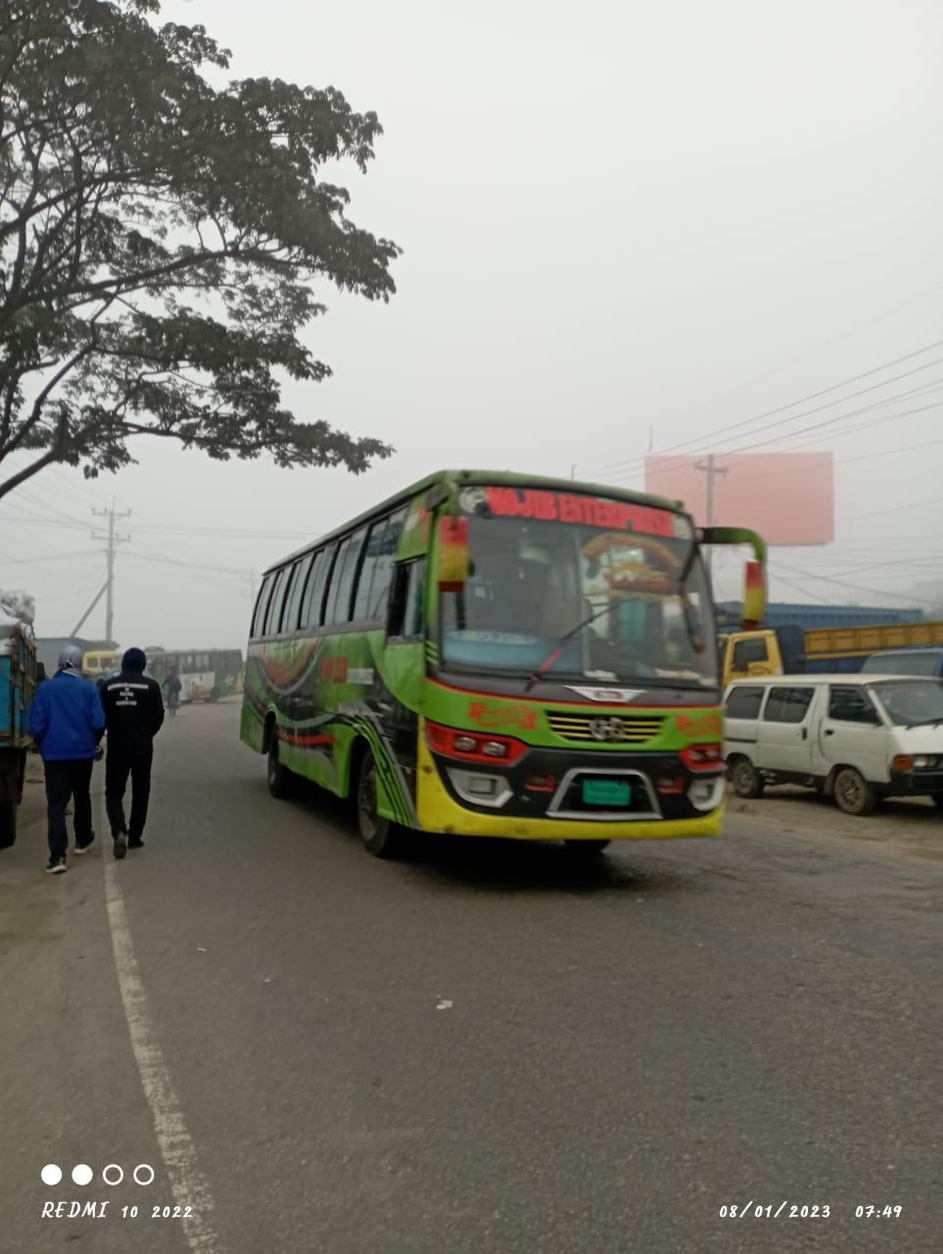Bus: (243, 466, 774, 874), (150, 641, 249, 705)
Car: (723, 662, 941, 808)
